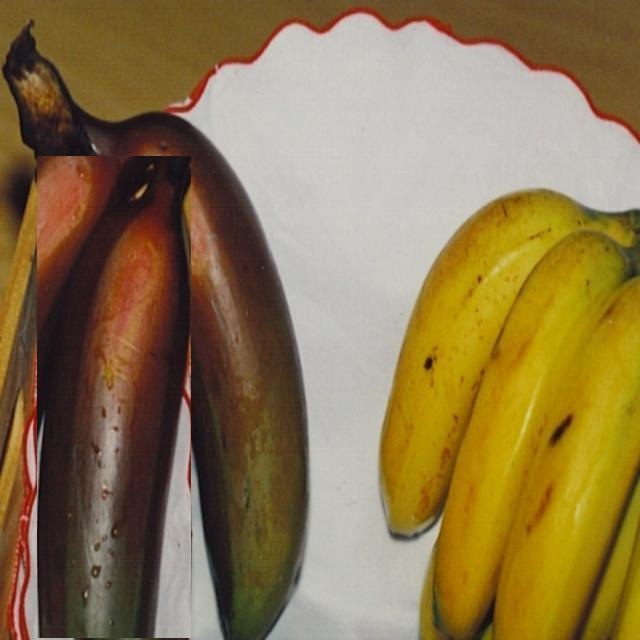Banana: (0, 26, 308, 640), (376, 204, 639, 638)
